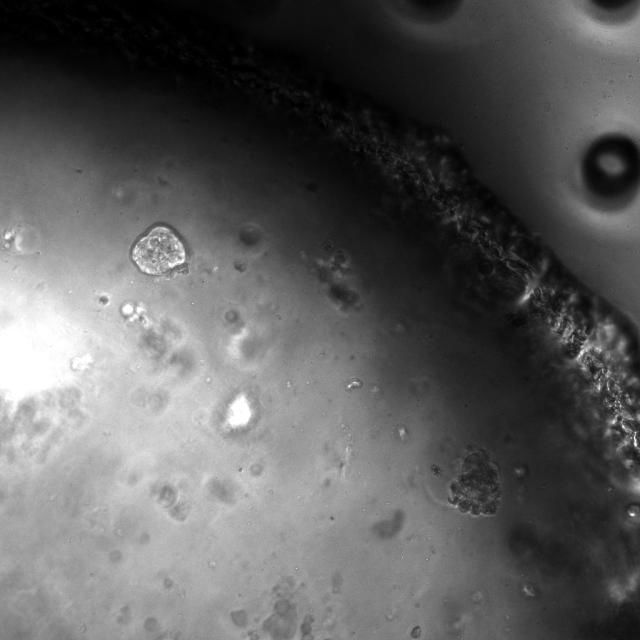organoid: (301, 240, 360, 311), (450, 450, 501, 515), (130, 223, 188, 275), (240, 225, 260, 245), (224, 309, 238, 323), (410, 624, 421, 639)
